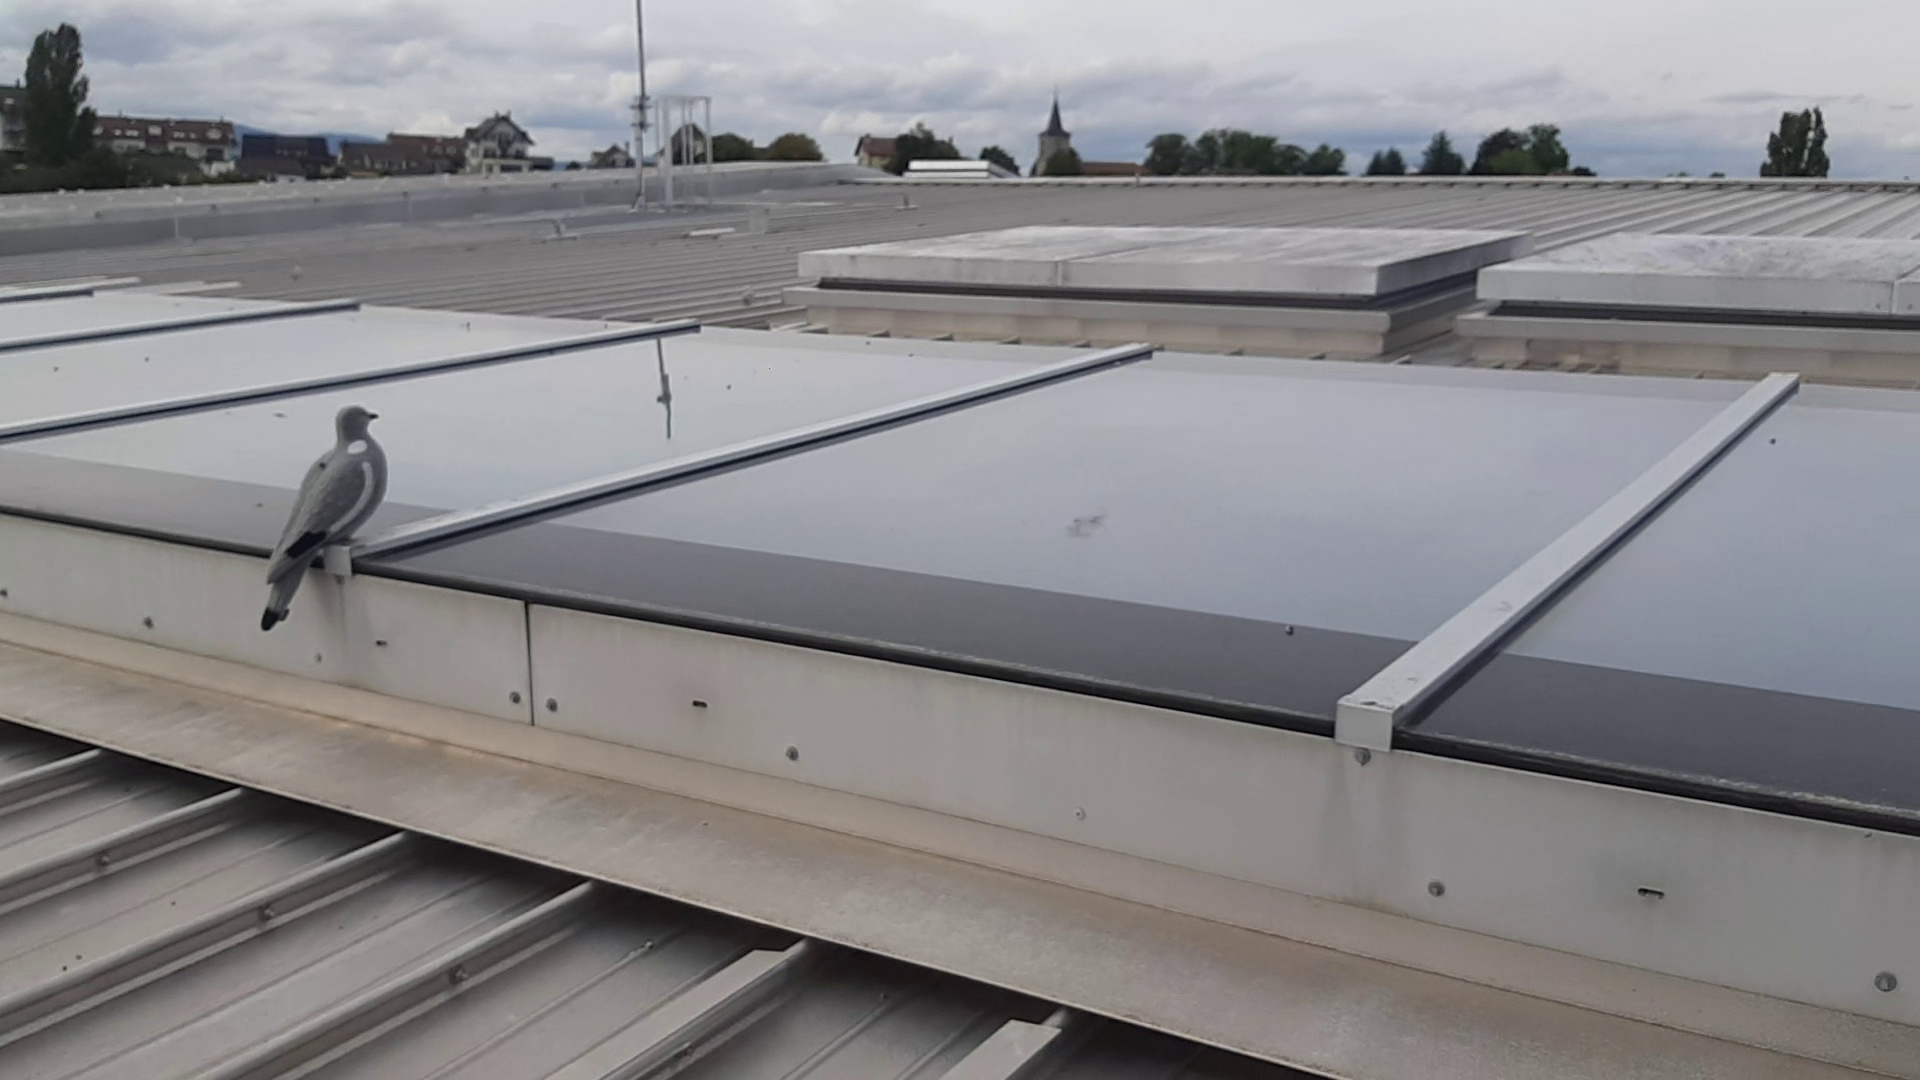Pigeon: (262, 404, 393, 633)
